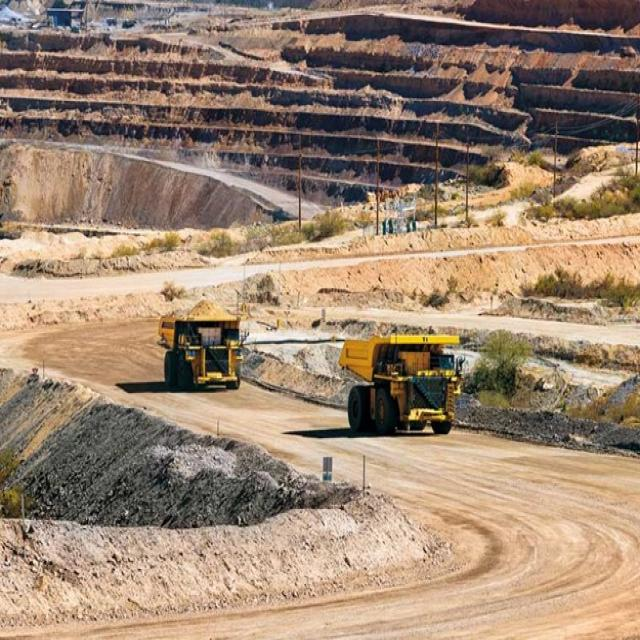dump_truck: (335, 325, 467, 445), (152, 291, 242, 397)
